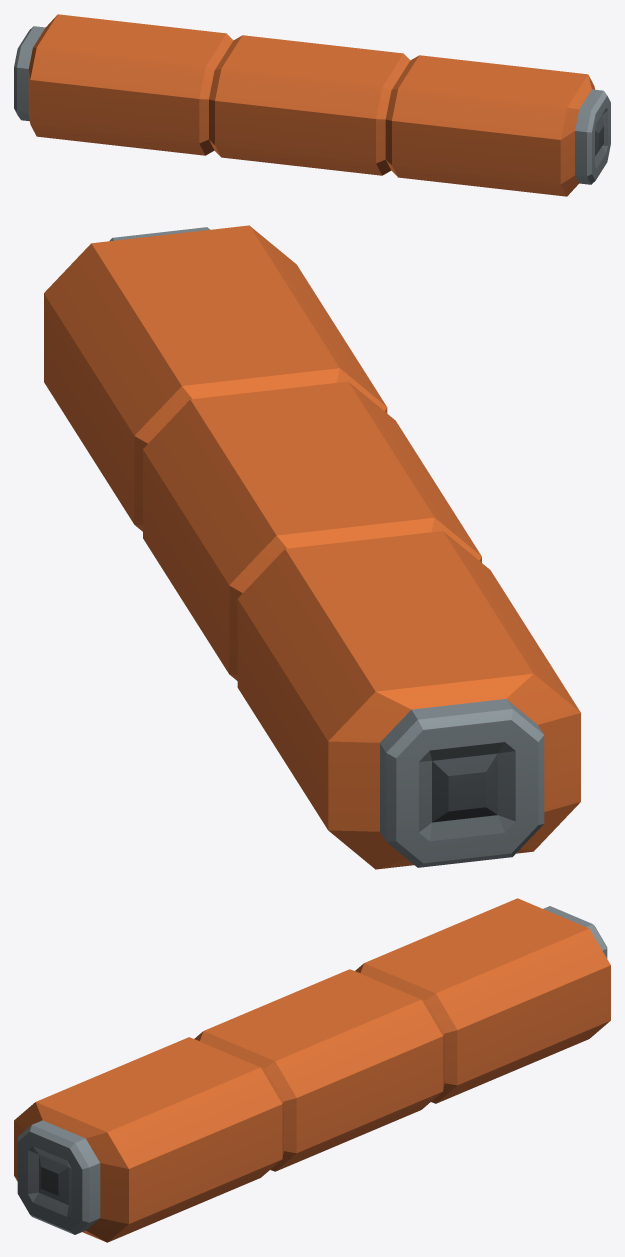
Rendered from tunnel_diagonal_long_b.glb.
3 renders of one model, top to bottom at view 1: azimuth 30°, elevation 25°; view 2: azimuth 150°, elevation 25°; view 3: azimuth 270°, elevation 25°, orthographic. The views are drawn at different scales.
Parts seen in each view (by area): view 1: tunnel_diagonal_long_B; view 2: tunnel_diagonal_long_B; view 3: tunnel_diagonal_long_B.
Boxes of the visible parts, x1,y1,x2,y2 form: tunnel_diagonal_long_B: [14, 14, 610, 196]; tunnel_diagonal_long_B: [44, 225, 580, 869]; tunnel_diagonal_long_B: [14, 898, 610, 1242].
Bounding box in the file's own units: 8.82 × 1.8 × 8.82.
1 material, 1 textured.
